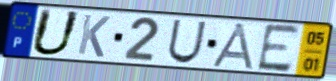2: (121, 15, 162, 64)
A: (209, 22, 258, 71)
E: (255, 23, 303, 75)
K: (75, 13, 113, 60)
U: (29, 7, 84, 58), (165, 18, 209, 65)
